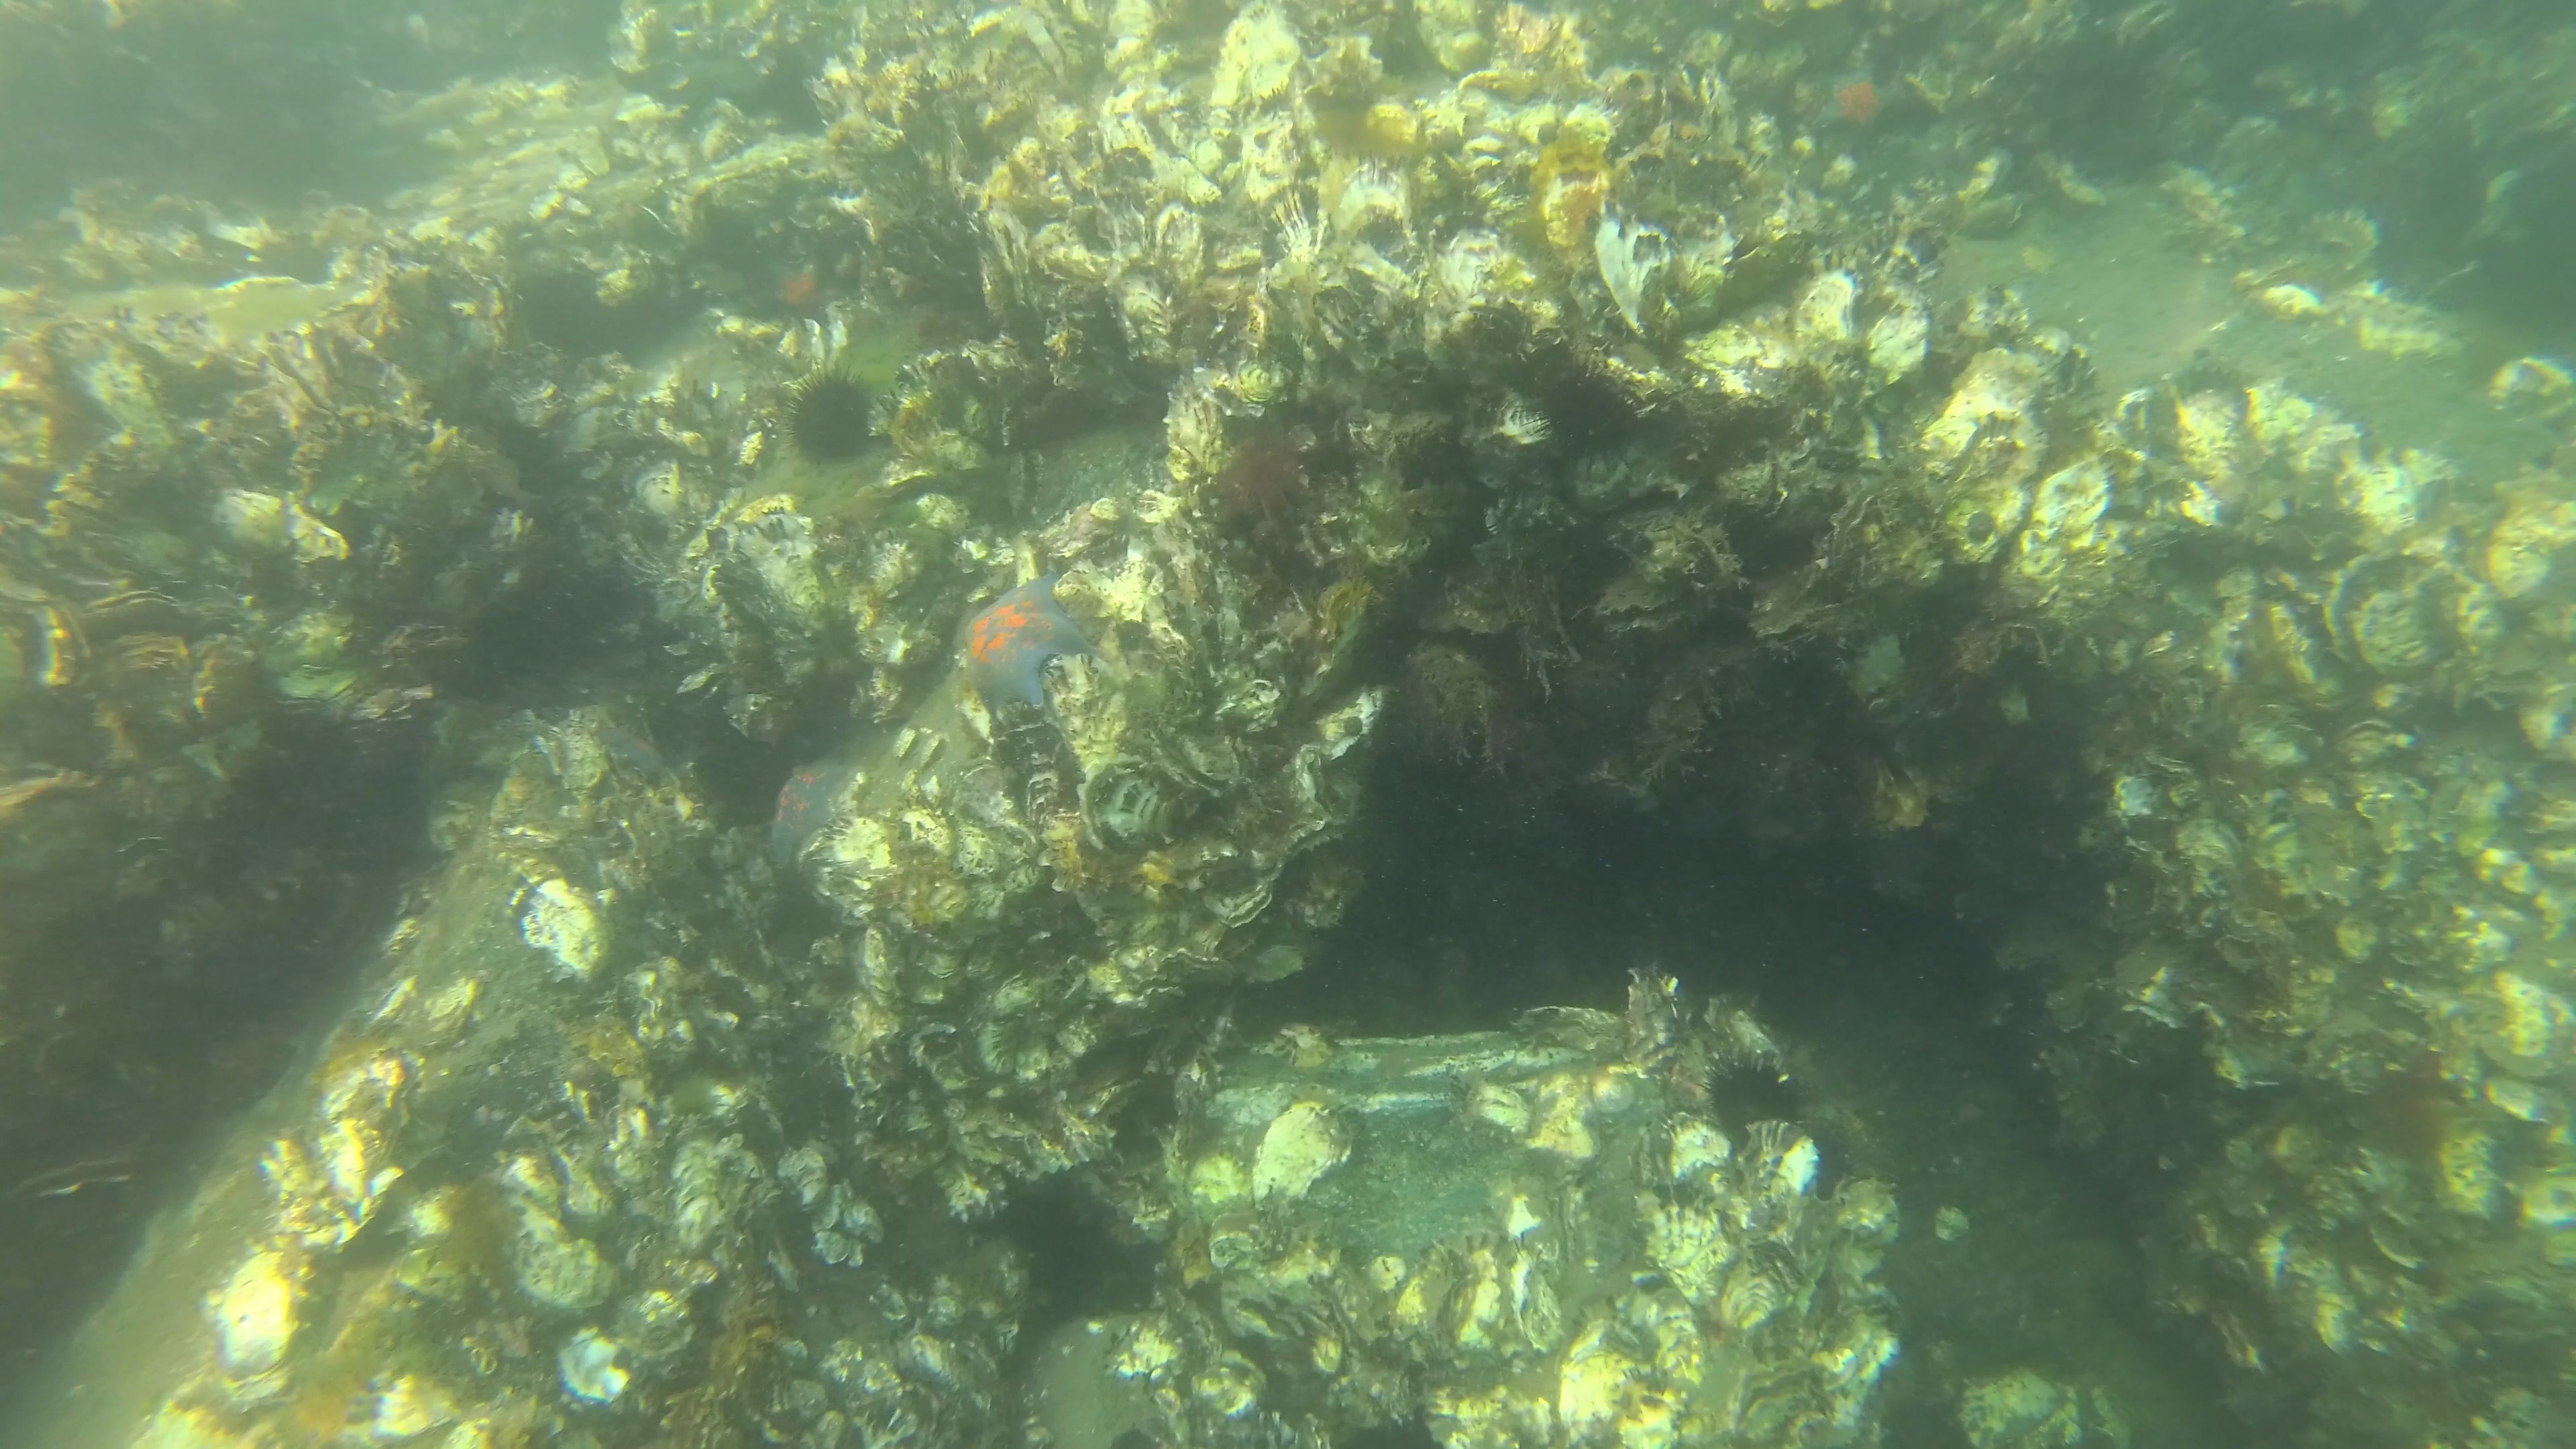echinus: (784, 372, 885, 472), (1706, 1047, 1808, 1146)
starfish: (957, 580, 1093, 708), (771, 764, 853, 856), (1826, 64, 1890, 129), (771, 255, 821, 311)
